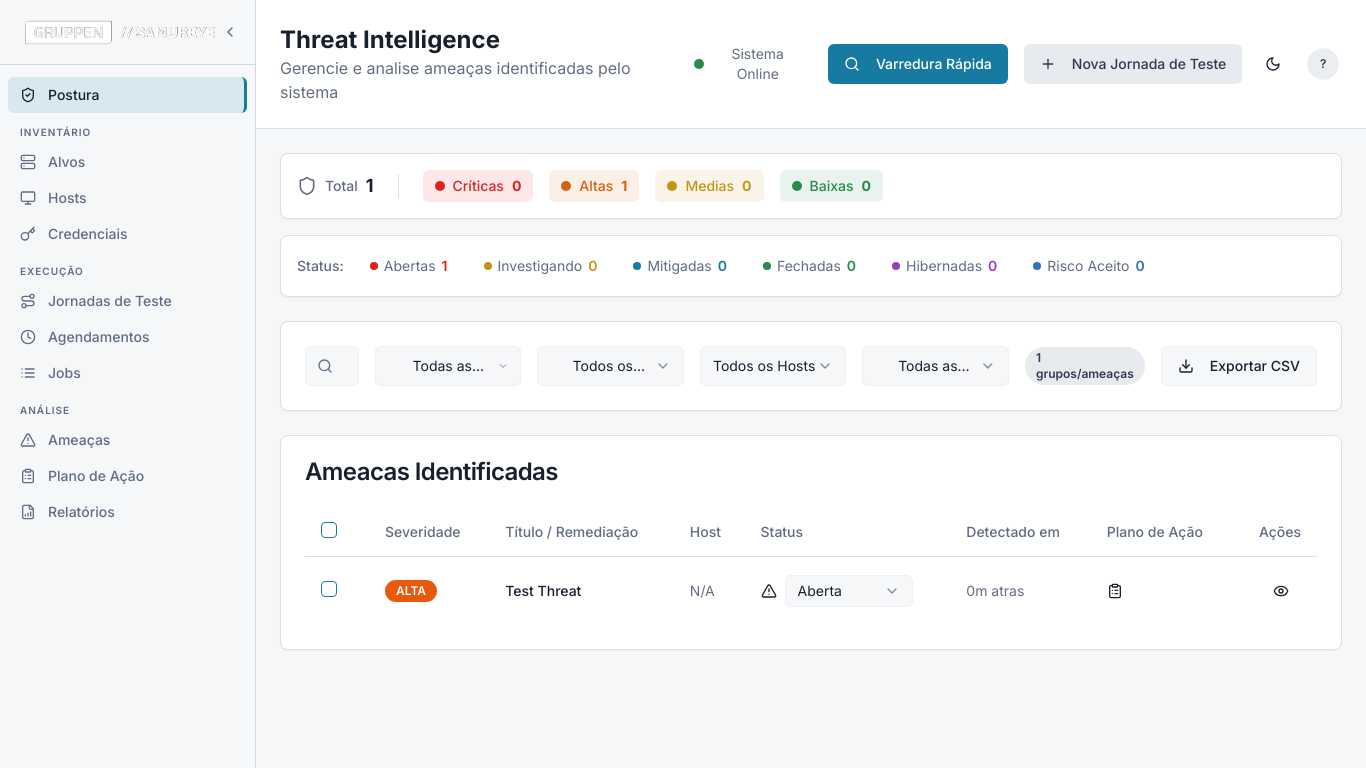
Test: UI-03 — Findings OWASP Source Filter › OWASP badge column renders ONLY when sourceFilter === "api_security"
Expected: the row with test id "threat-row-t1" is shown, [305,556,1317,624]
# Switch to api_security
Click the dropdown with test id "select-source-filter" at (936, 366), box [862,346,1009,386]
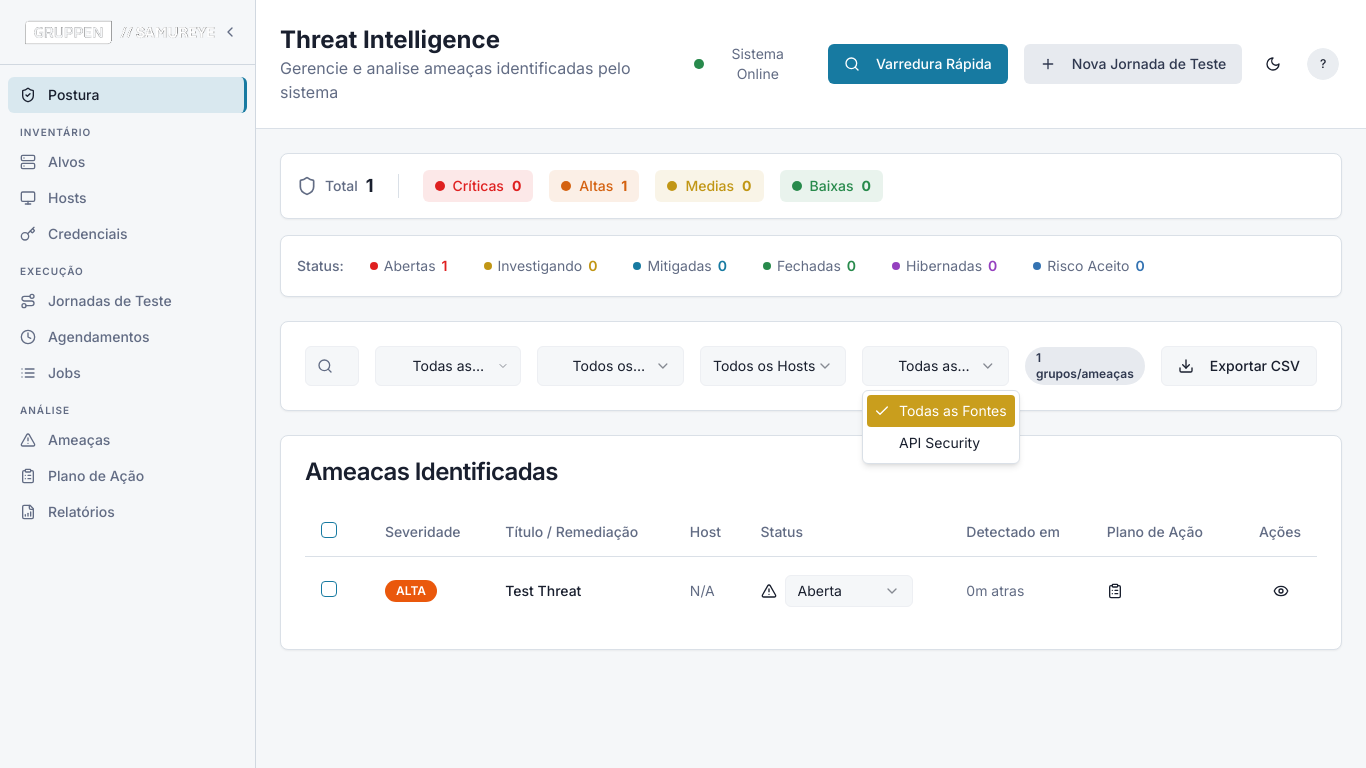
Click the option "API Security" at (940, 442), box [899,434,980,451]
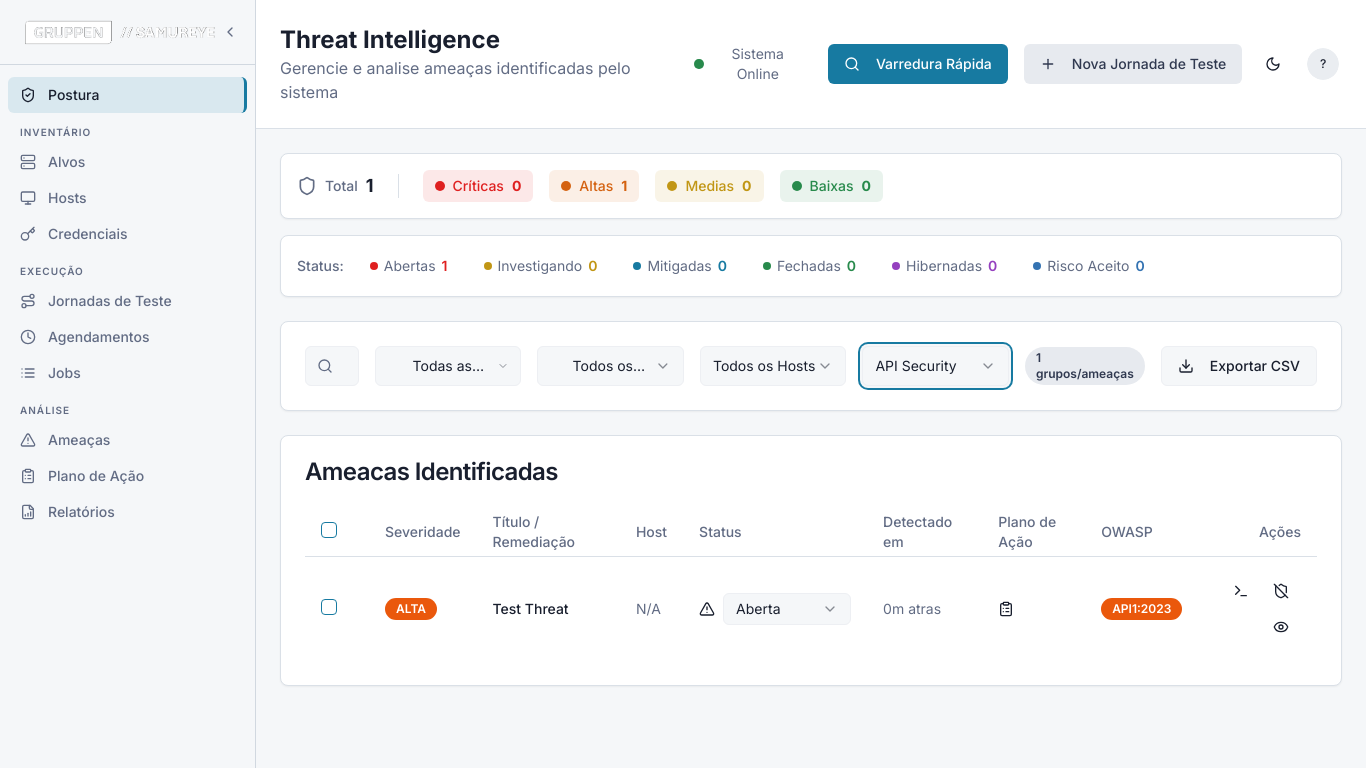
Expected: the column heading with test id "th-owasp" is shown, [1085,508,1198,556]
